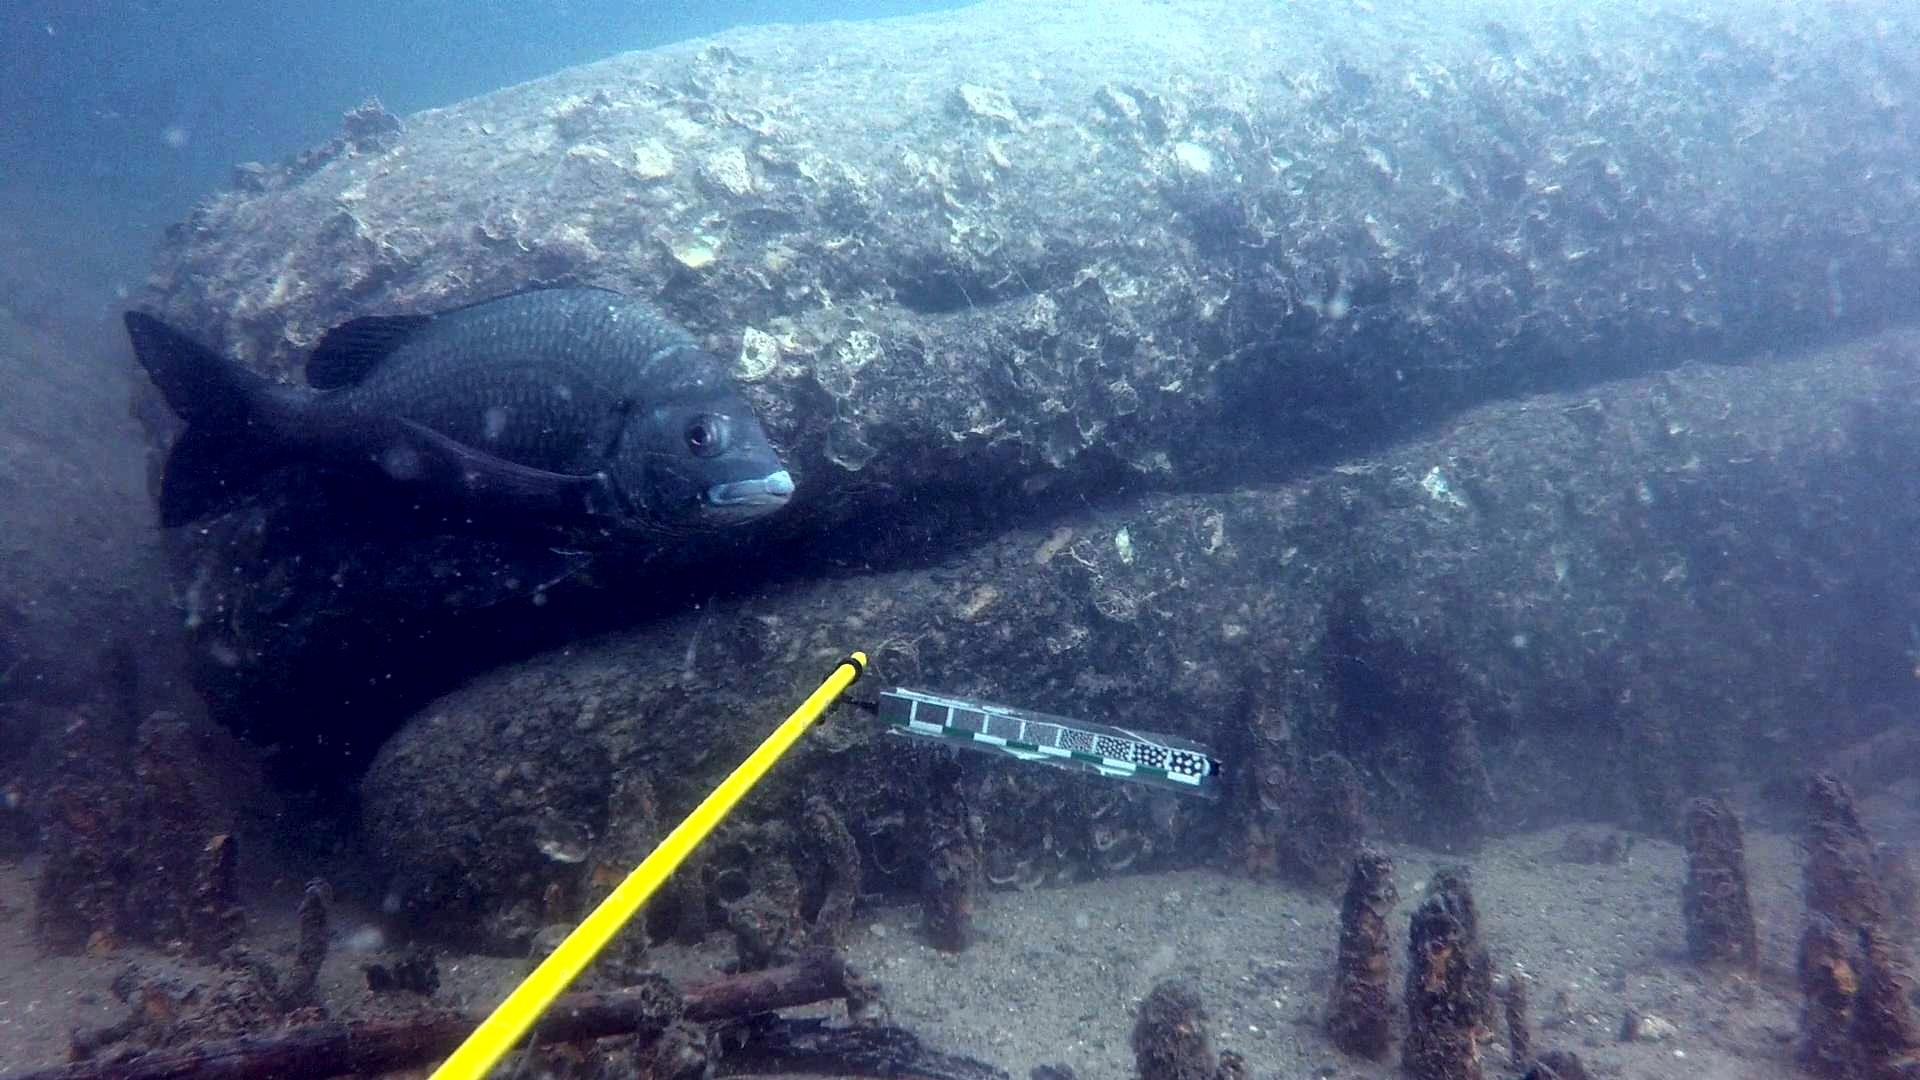acanthopagrus palmaris: (108, 273, 810, 569)
